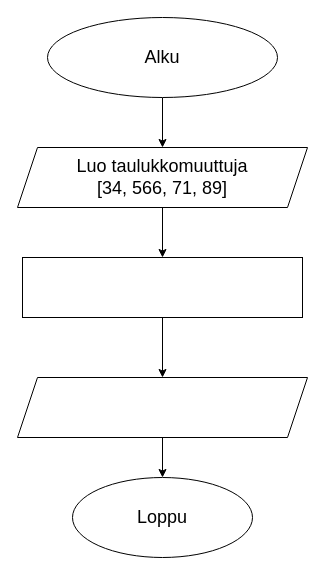
The diagram is 325 pixels wide and 575 high, and some of its shapes have lost their labels. The centre of each missing label's shape, as x and y in pixels:
"Lue taulukkomuuttujan ensimmäinen elementti ( Index 0 = 34 )" goes at (162,287).
"Tulosta elementti" goes at (162,407).
